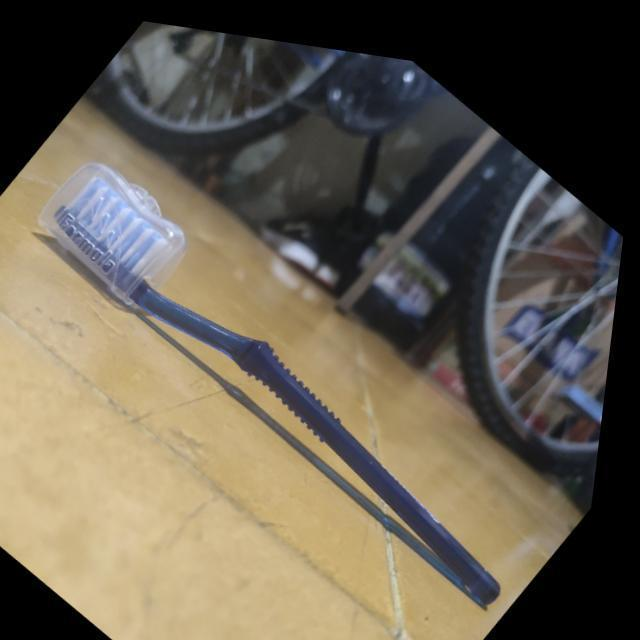toothbrush: (1, 120, 616, 636)
